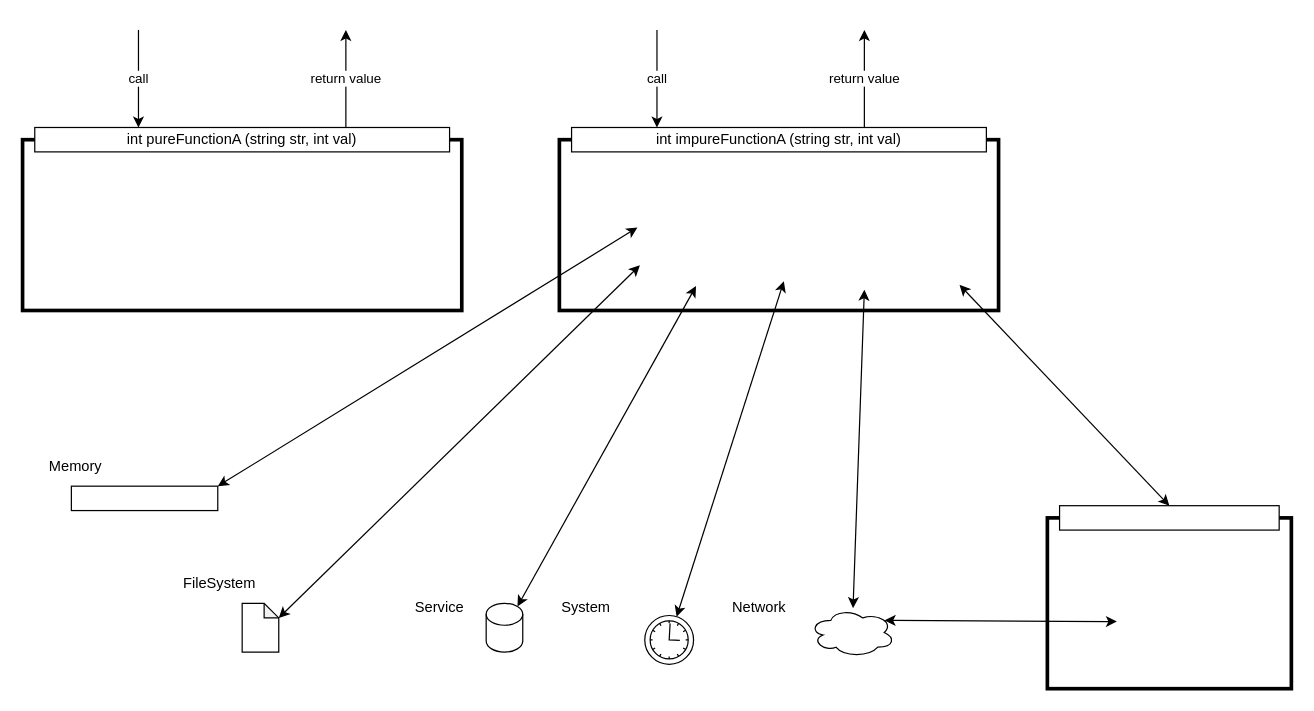
Image size: 1314x711. Some labels were removed from this diagram. Each missing label, with the centre of its shape:
"Variable" goes at (x=144, y=498).
"void impureFunctionB ()" goes at (x=1168, y=517).
